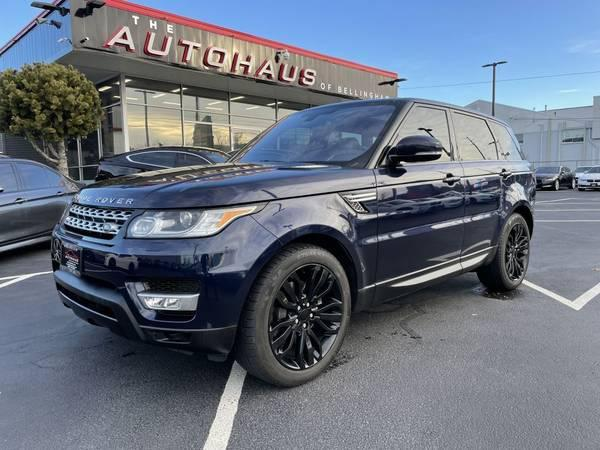Front_Bumper: (47, 215, 276, 359)
Front_Fender: (252, 187, 374, 308)
Front_Left_Door: (368, 166, 460, 293)
Front_Left_Window: (375, 105, 457, 168)
Front_Windshield: (226, 102, 400, 169)
Grille: (55, 202, 141, 240)
Hood: (73, 160, 376, 209)
Left_Headlight: (122, 199, 272, 242)
Rear_Fender: (488, 120, 534, 215)
Rear_Left_Door: (457, 160, 509, 266)
Rear_Left_Window: (450, 111, 499, 164)
Roof: (286, 98, 506, 170)
Wheel: (247, 240, 354, 382), (480, 214, 534, 293)
